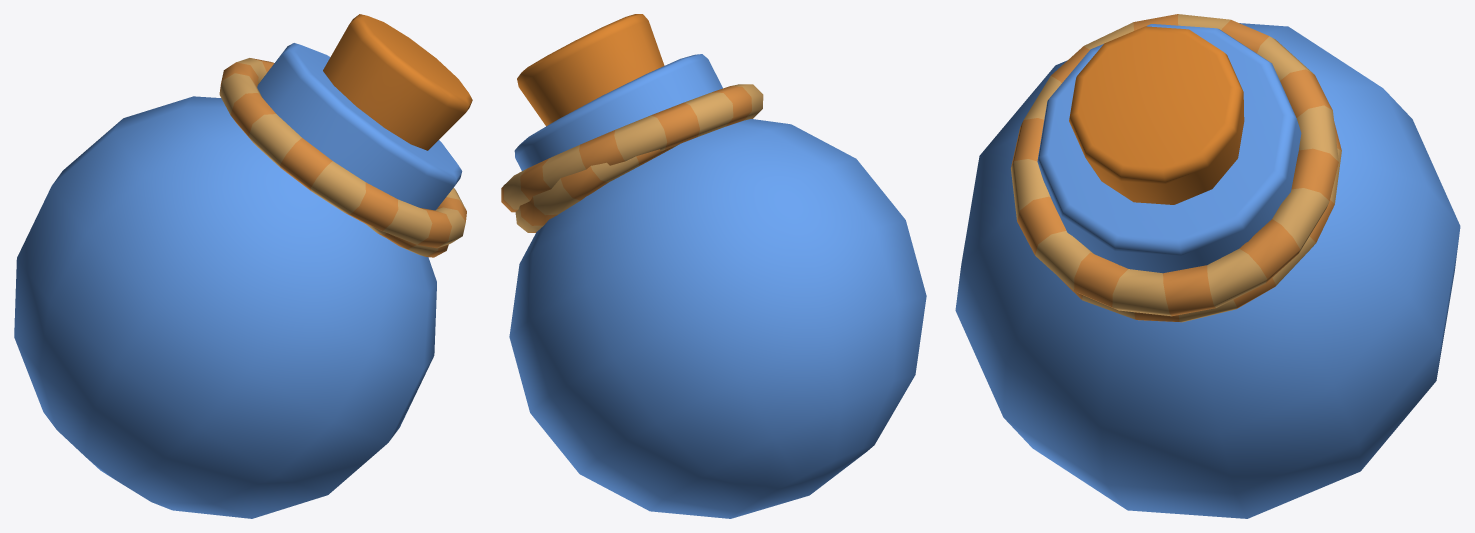
3 renders of one model, left to right at view 1: azimuth 30°, elevation 25°; view 2: azimuth 150°, elevation 25°; view 3: azimuth 270°, elevation 25°, orthographic. The views are drawn at different scales.
Visible parts, largest first — view 1: model_1.115; view 2: model_1.115; view 3: model_1.115.
Part boxes in pixels (bbox=[...]): model_1.115: bbox=[14, 14, 472, 518]; model_1.115: bbox=[501, 14, 926, 518]; model_1.115: bbox=[955, 14, 1460, 518].
Bounding box in the file's own units: 3.32 × 3.59 × 3.09.
